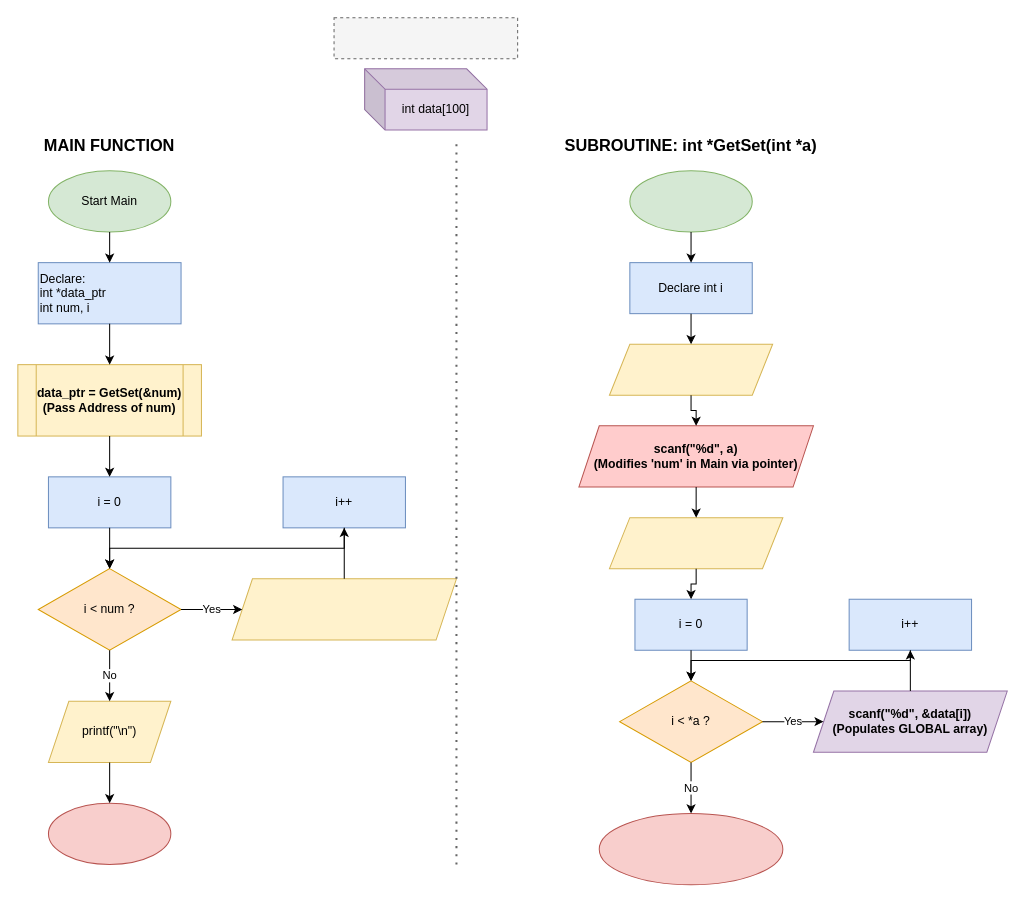
Image size: 1025x903. Some labels were removed from this diagram. Each missing label, with the box of its shape:
End Main / return 0: (47, 802, 171, 864)
GLOBAL MEMORY: (333, 17, 518, 59)
Print "Enter element:": (608, 517, 783, 569)
Print "How many...": (608, 343, 773, 395)
printf("%d ", data_ptr[i]) (Accessing Global Data via Pointer): (231, 578, 456, 640)
Return data (Returns pointer to Global Array): (598, 812, 783, 885)
Start GetSet (Input pointer a): (629, 170, 752, 232)
